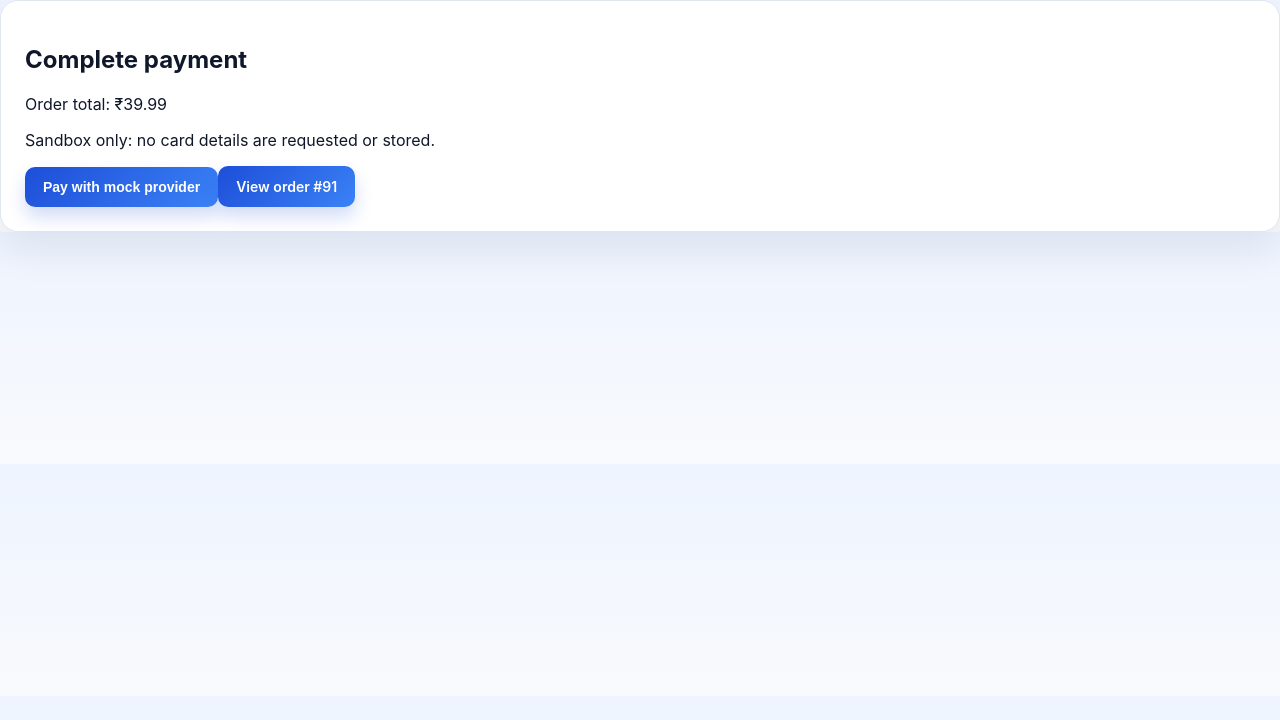
checkout › allows paying an existing pending order through the checkout route
Expected: the text "Order total: ₹39.99" is shown, left=25, top=94, right=167, bottom=114
Click the button "Pay with mock provider". click: (122, 187)
box: left=25, top=167, right=218, bottom=207
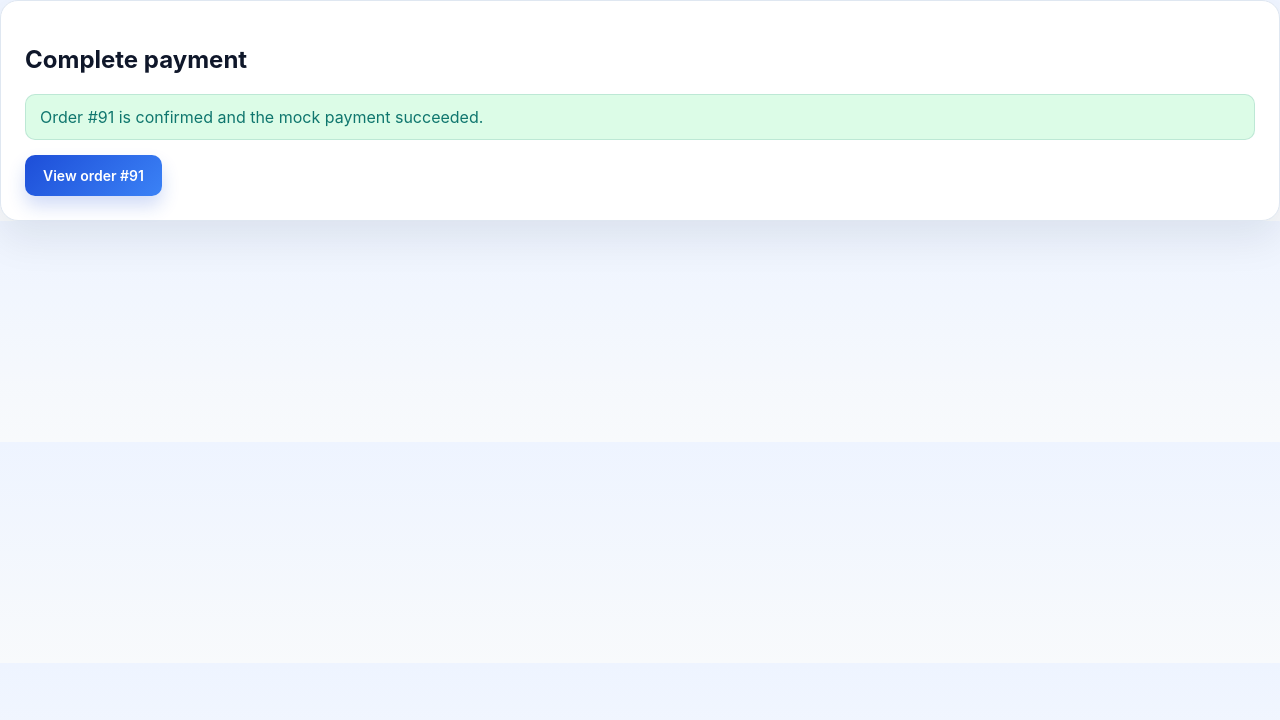
Expected: the text "Order #91 is confirmed and the mock payment succeeded." is shown, left=25, top=94, right=1255, bottom=140
